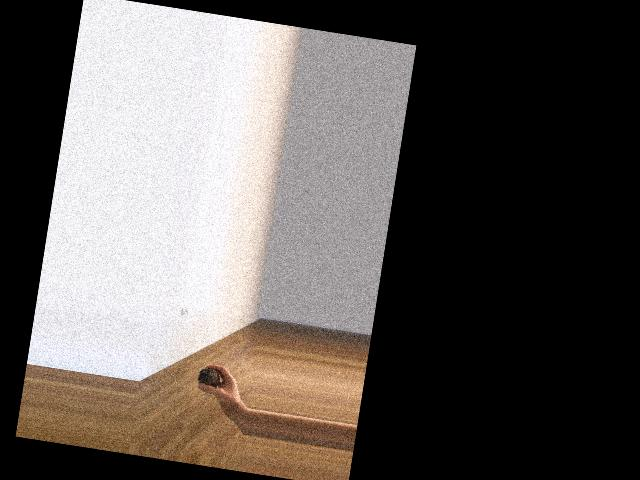beet: (194, 365, 221, 397)
